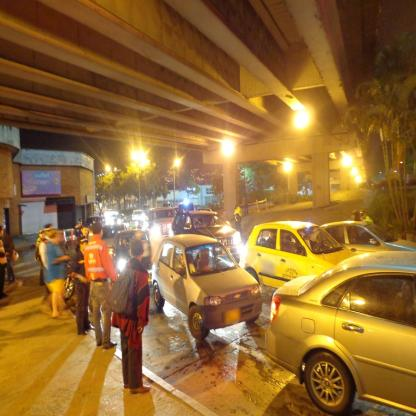Car: (265, 249, 416, 416), (153, 234, 267, 342), (242, 219, 358, 288), (173, 208, 246, 264), (321, 219, 416, 257), (112, 229, 153, 277), (148, 206, 179, 239)
